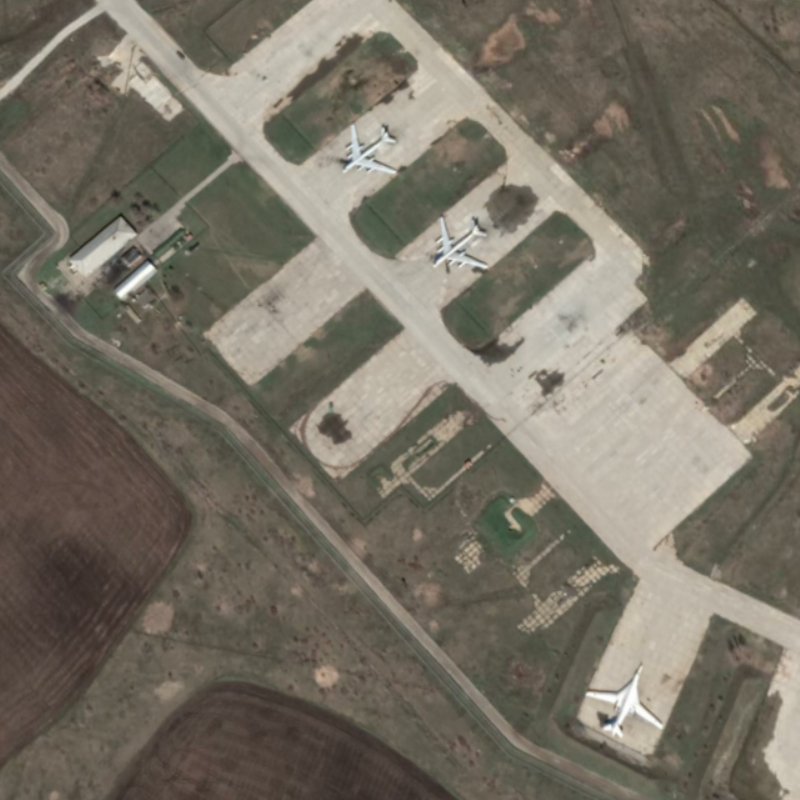A17: (428, 211, 494, 276), (337, 121, 400, 180)
A6: (582, 655, 665, 745)
